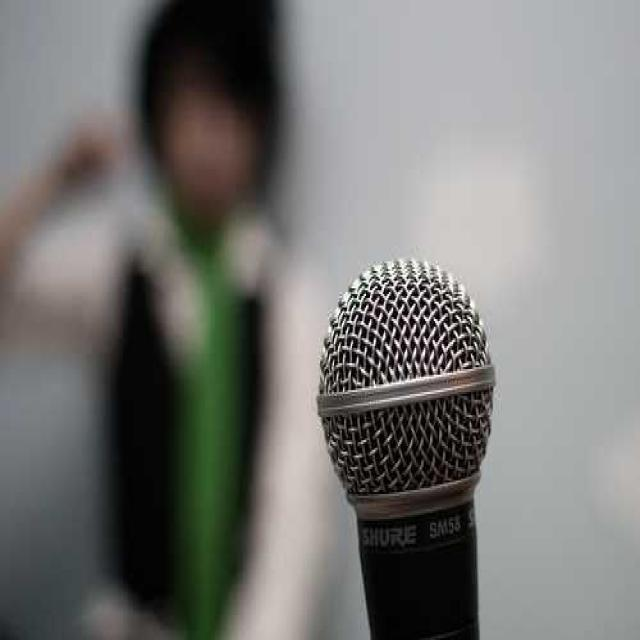microphone: (315, 251, 497, 639)
